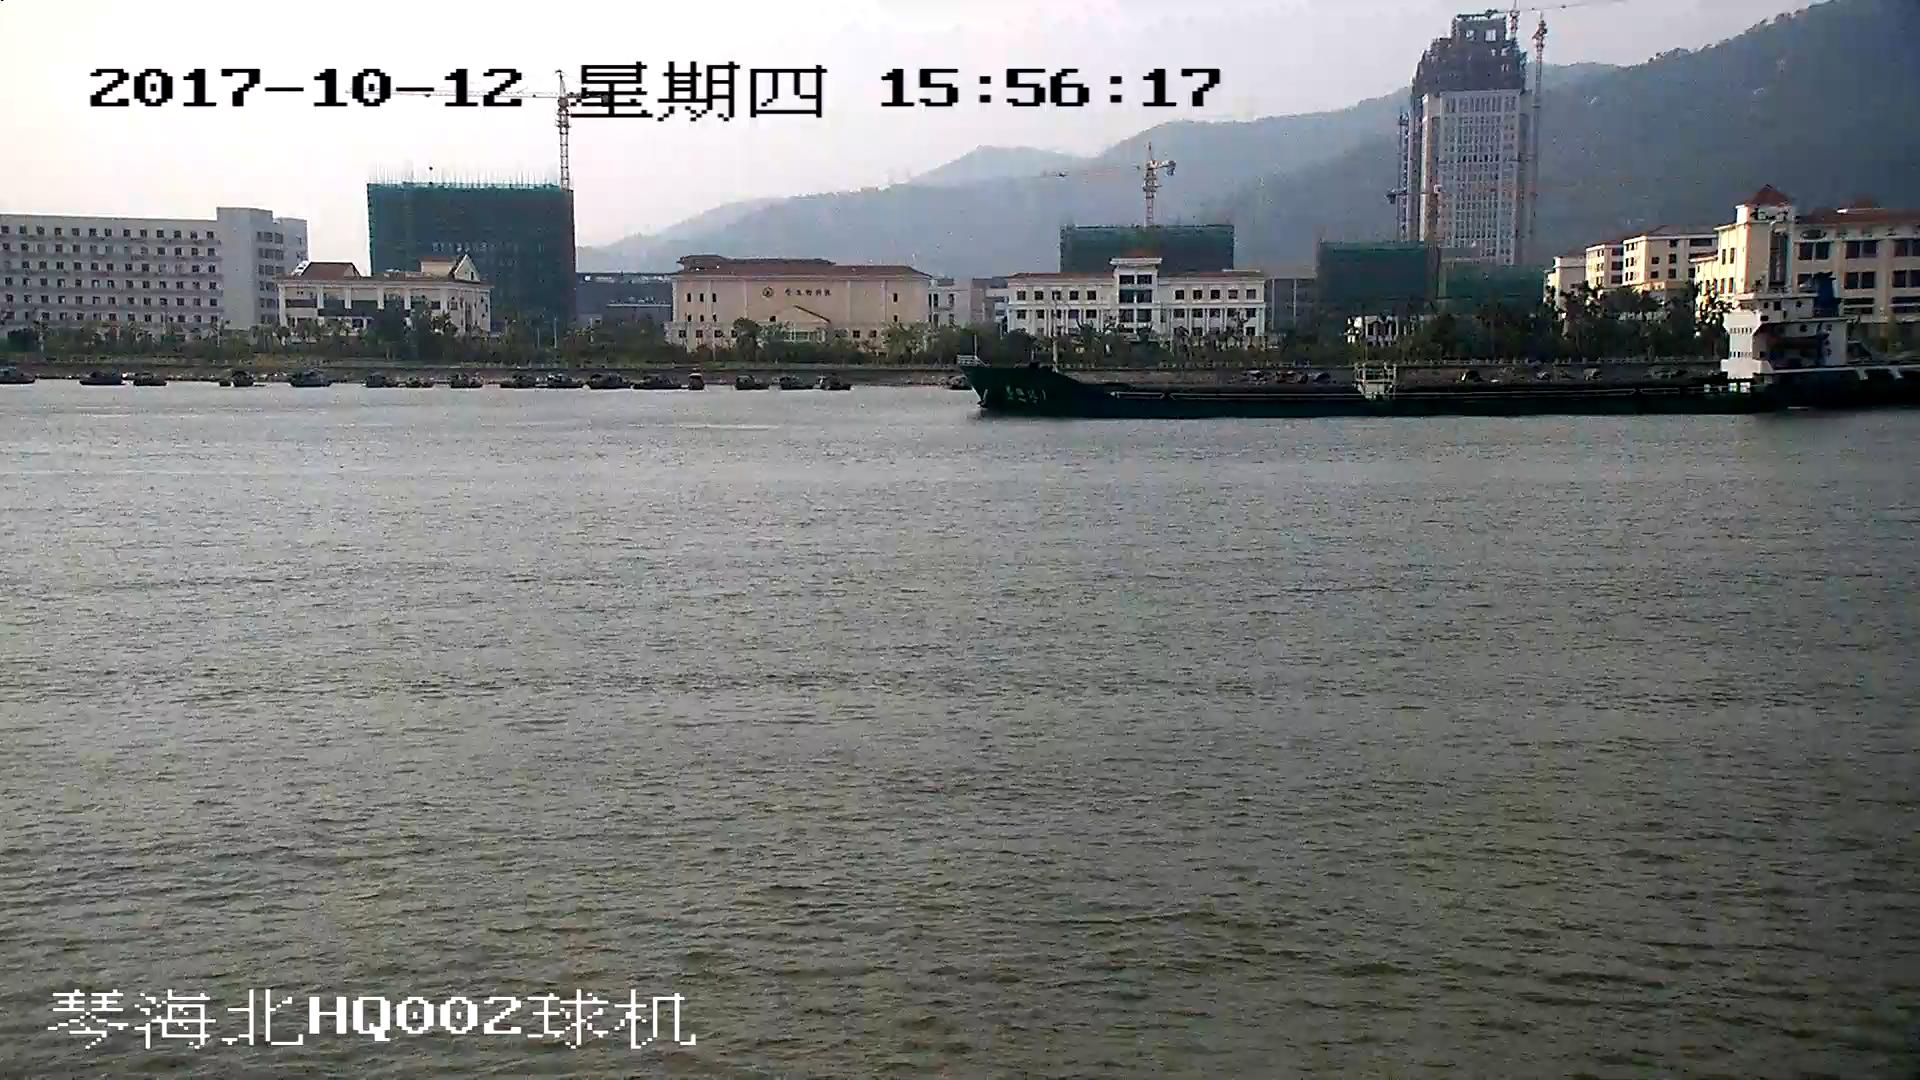general cargo ship: (958, 297, 1920, 414)
